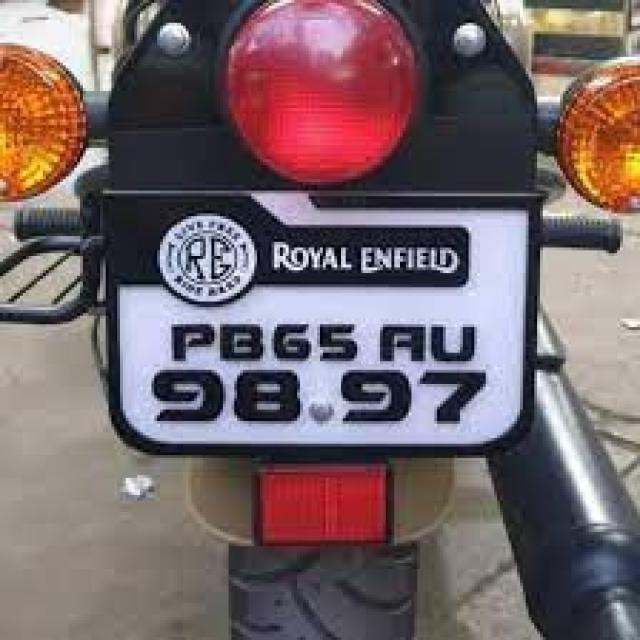license_plate: (100, 191, 537, 455)
